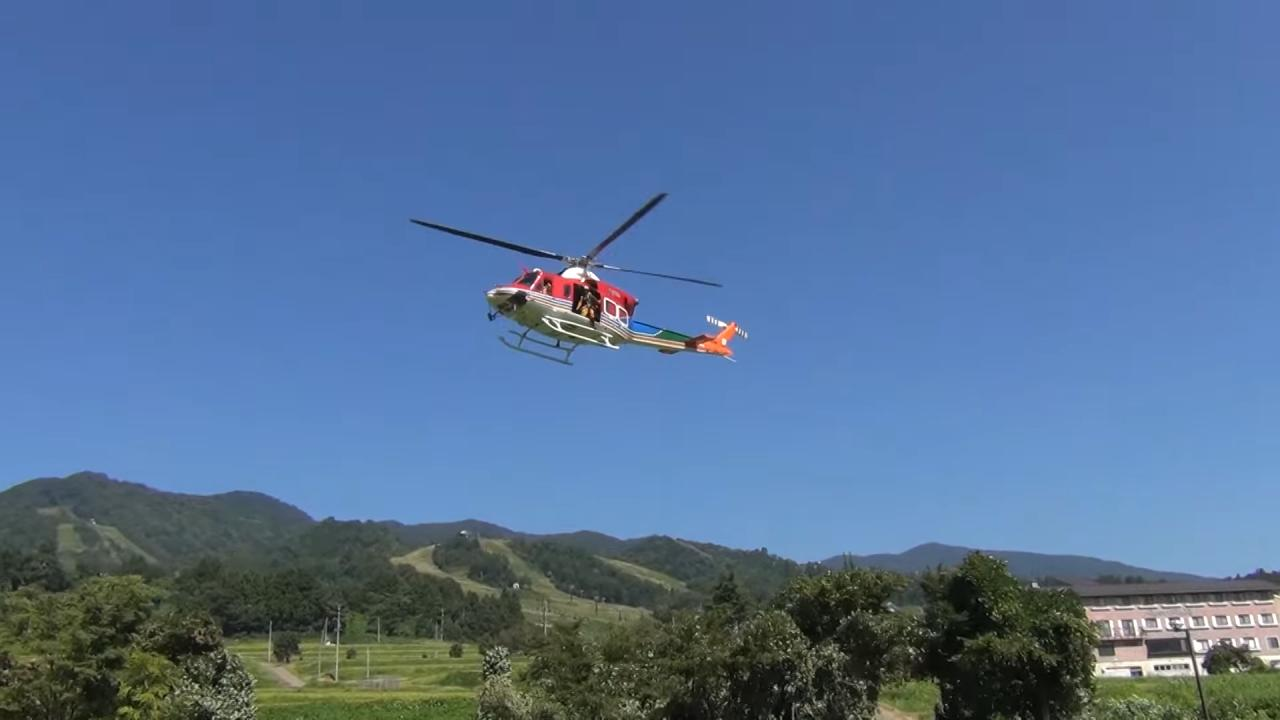Helicopter: (398, 178, 762, 388)
